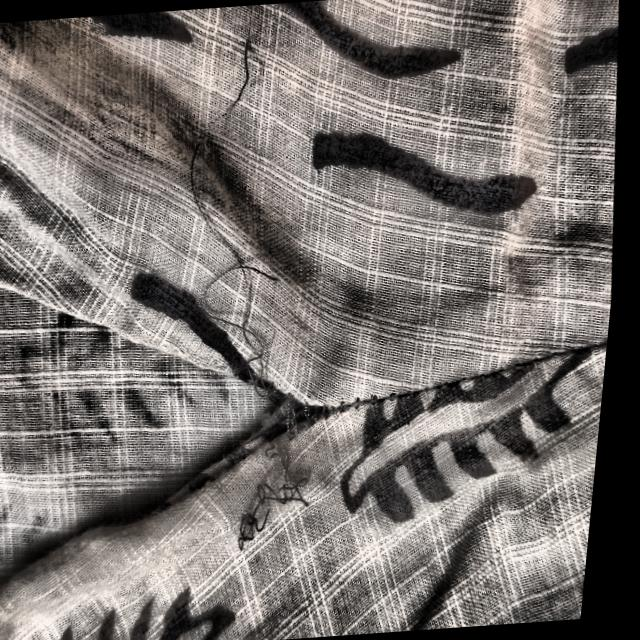Stitch: (140, 0, 396, 595)
